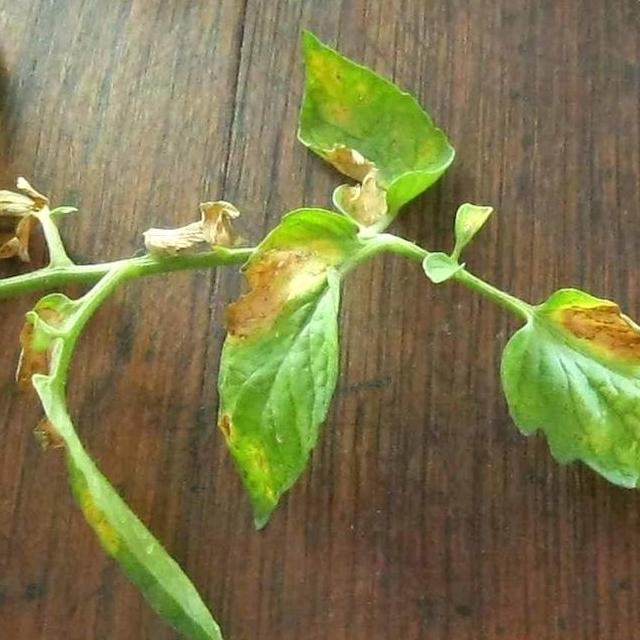Tomato Early blight leaf: (212, 194, 368, 543), (498, 290, 640, 544)
